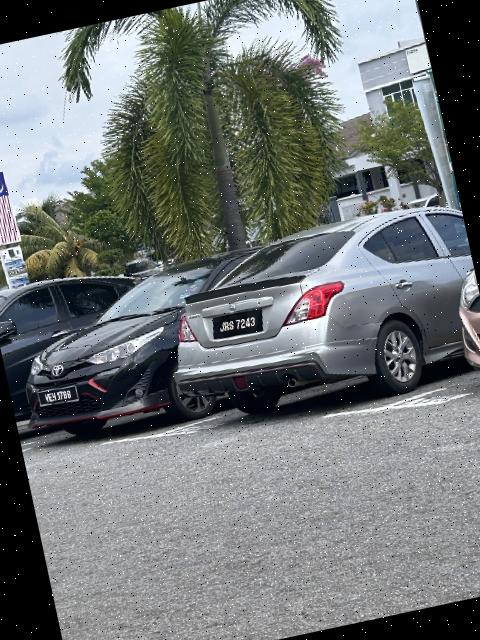License_Plate: (208, 308, 267, 343), (36, 383, 83, 413)
car: (158, 193, 480, 436), (11, 248, 297, 457)
